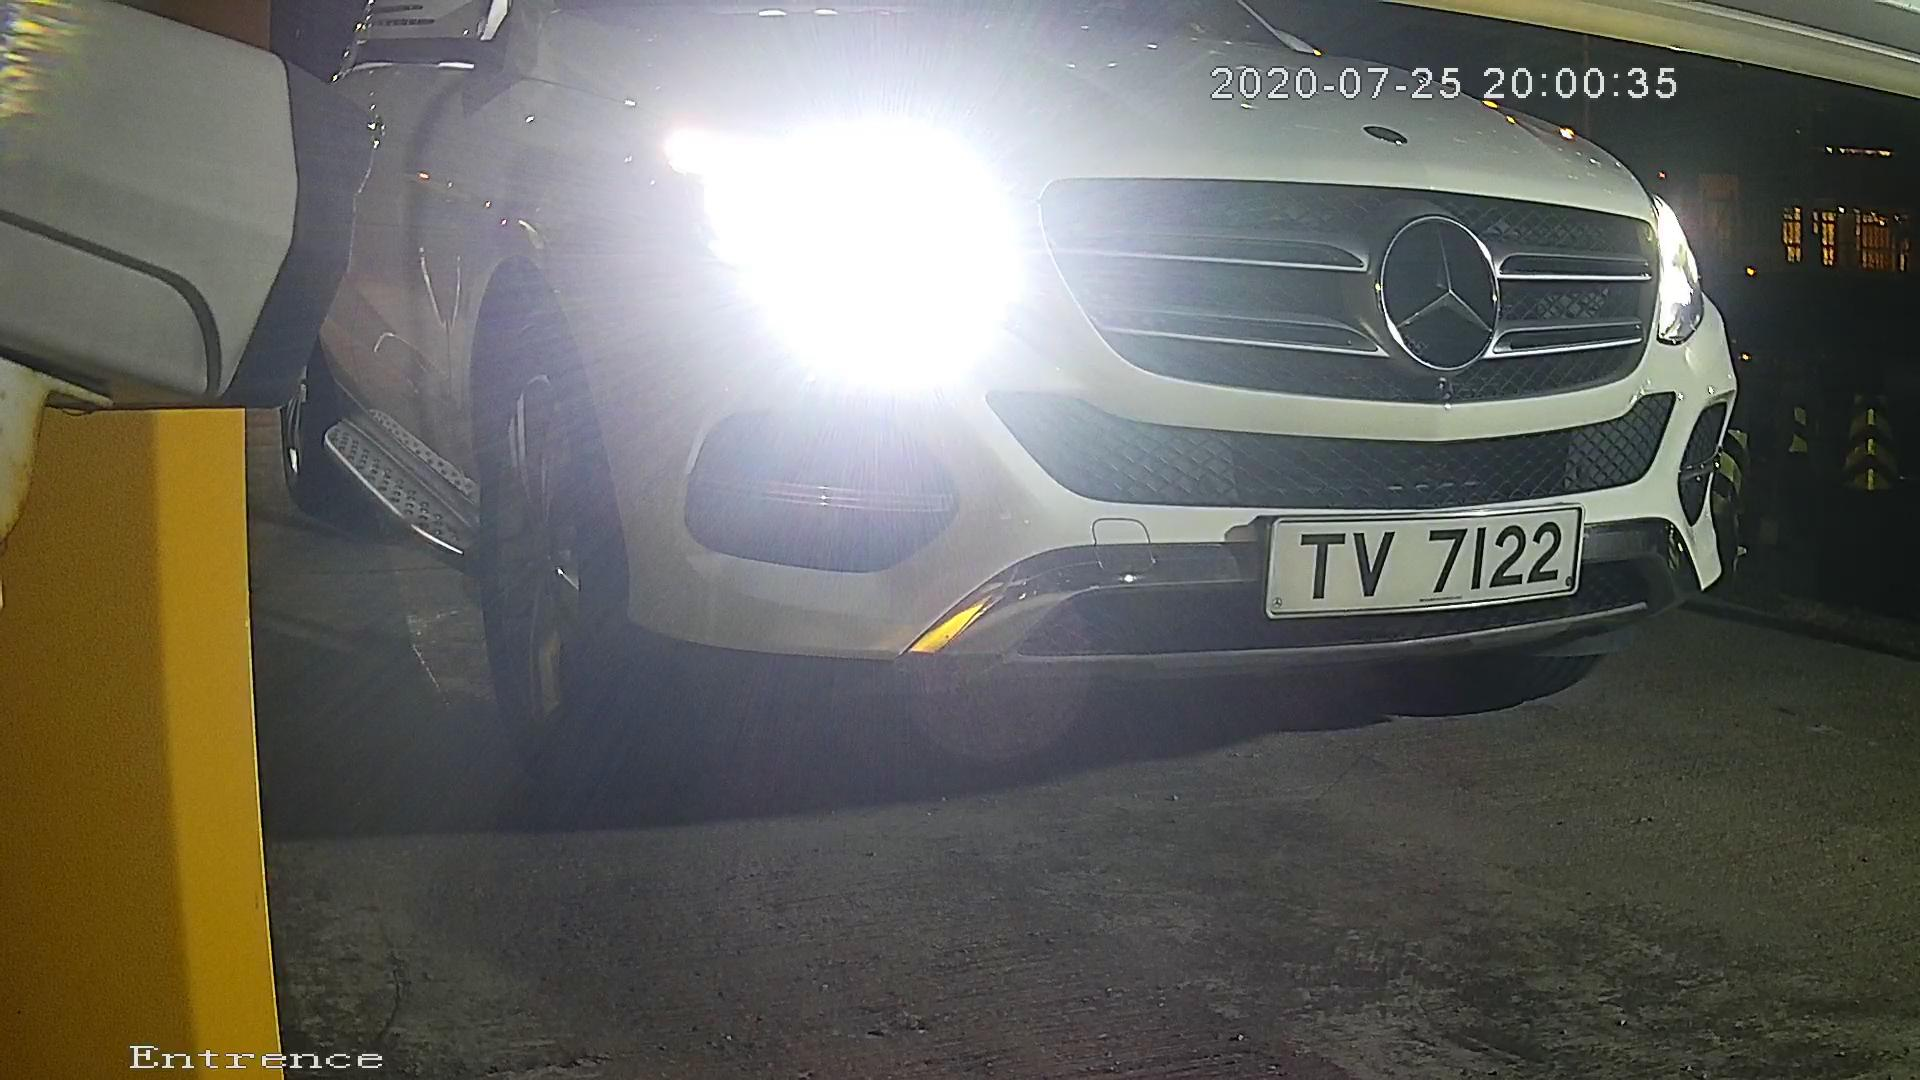License Plate: (1235, 492, 1612, 627)
